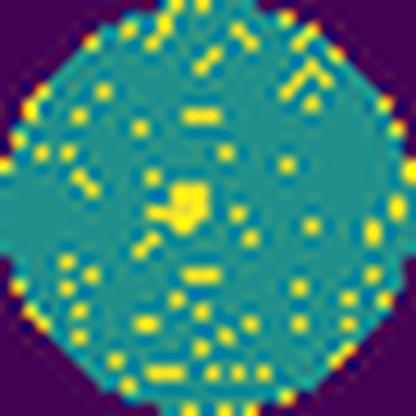Center: (148, 176, 215, 244)
